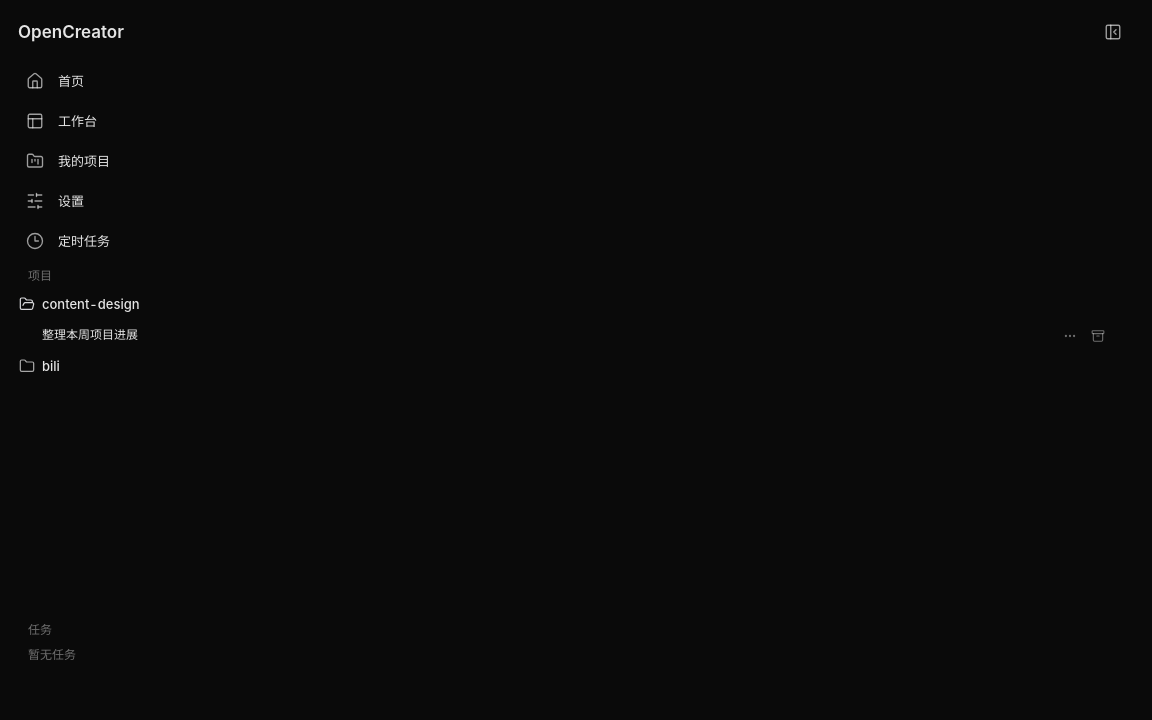
it: OpenCreatorSidebar › closes a portalled conversation menu when the viewport changes
Click the button named "更多" at [1070, 336], box [1056,322,1084,350]
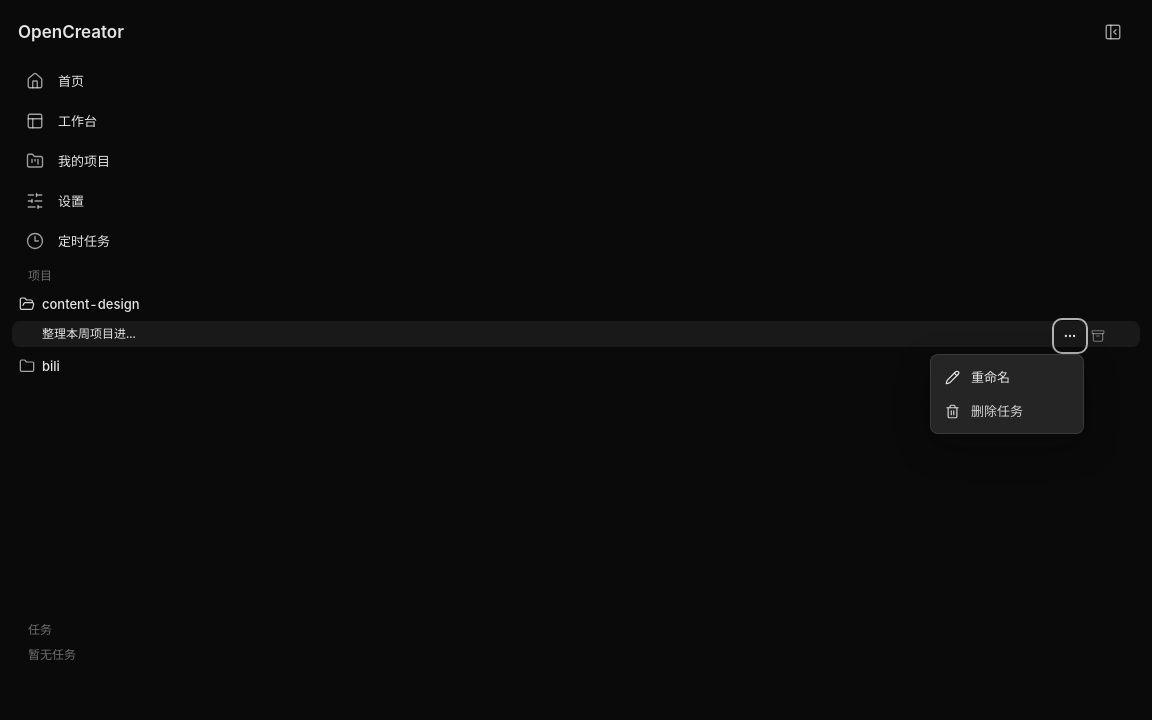
expect the menu named "整理本周项目进展 操作" is shown: met, box [930,354,1084,434]
